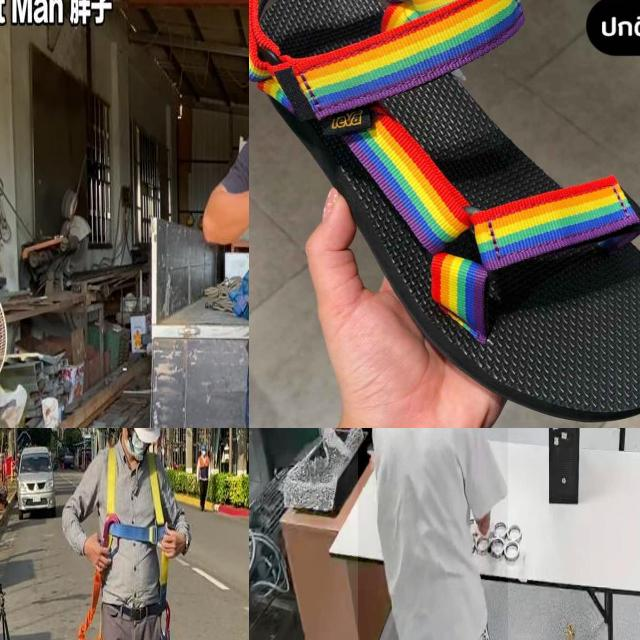Harness: (102, 448, 167, 546), (147, 553, 172, 640), (78, 572, 105, 640)
Sandals: (249, 0, 640, 428)
person: (357, 428, 508, 640)
